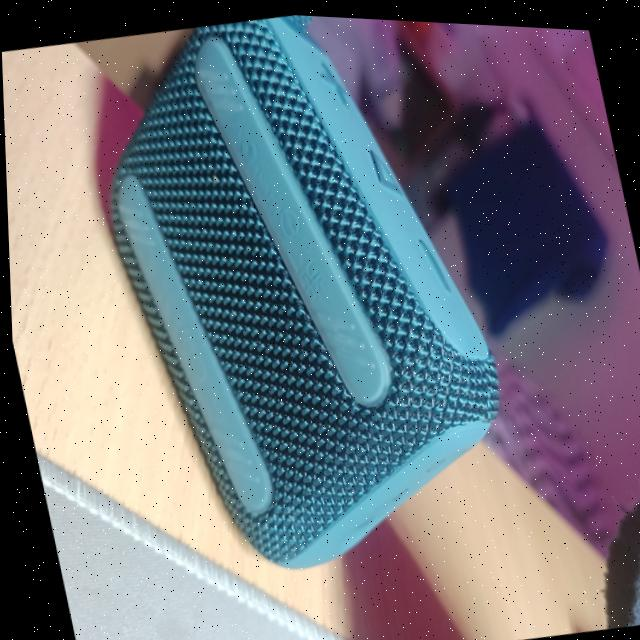column JBL: (66, 3, 531, 602)
